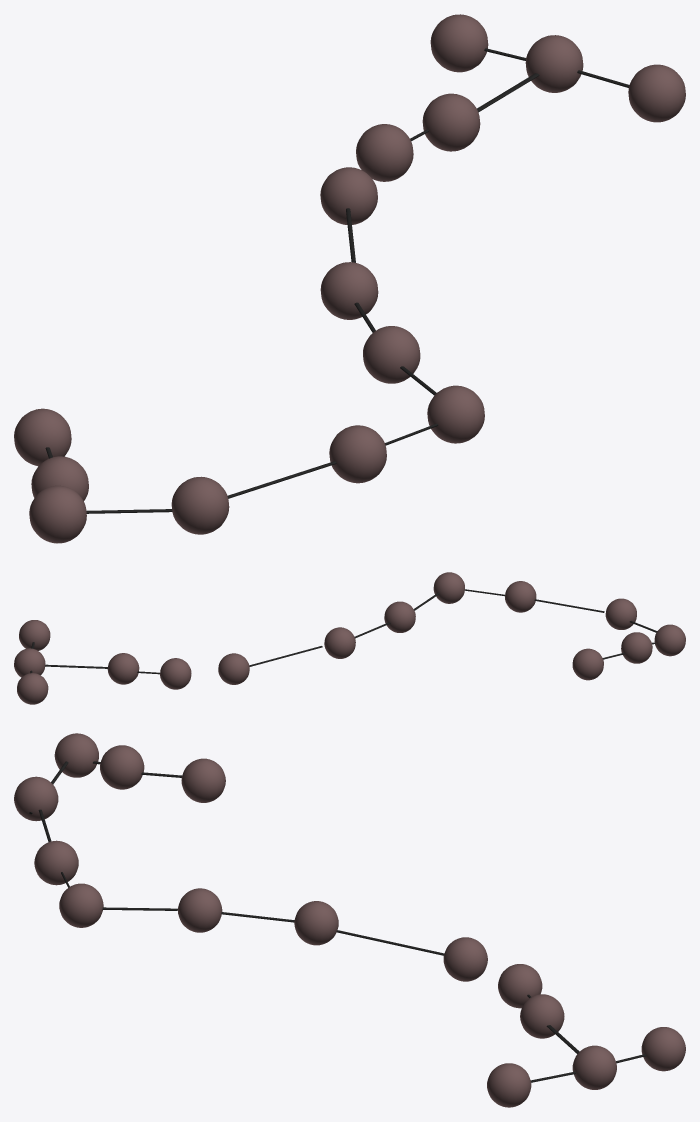
Rendered from scorpion.fbx.
The picture shows the model from 3 angles, top to bottom: view 1: azimuth 30°, elevation 25°; view 2: azimuth 150°, elevation 25°; view 3: azimuth 270°, elevation 25°; orthographic projection. The views are drawn at different scales.
Visible parts, largest first — view 1: pSphere5, pSphere13, pSphere4, pSphere14, pSphere2, pSphere11, pSphere3, pSphere10, pSphere1, pSphere12, pSphere8, pSphere9 (+2 smaller); view 2: pSphere7, pSphere9, pSphere5, pSphere10, pSphere8, pSphere6, pSphere3, pSphere14, pSphere11, pSphere1, pSphere2, pSphere4 (+2 smaller); view 3: pSphere9, pSphere7, pSphere13, pSphere8, pSphere1, pSphere6, pSphere2, pSphere12, pSphere14, pSphere3, pSphere11, pSphere4 (+2 smaller).
Boxes of the visible parts, <box> form: pSphere5: <box>29,485,86,543</box>; pSphere13: <box>628,64,685,122</box>; pSphere4: <box>171,476,229,534</box>; pSphere14: <box>430,14,488,72</box>; pSphere2: <box>427,385,484,443</box>; pSphere11: <box>422,93,480,151</box>; pSphere3: <box>329,425,386,483</box>; pSphere10: <box>356,124,413,181</box>; pSphere1: <box>363,326,420,383</box>; pSphere12: <box>525,35,583,92</box>; pSphere8: <box>320,262,378,319</box>; pSphere9: <box>320,167,377,224</box>; pSphere7: <box>572,648,603,680</box>; pSphere9: <box>218,653,249,684</box>; pSphere5: <box>654,624,685,656</box>; pSphere10: <box>160,658,191,689</box>; pSphere8: <box>324,627,355,658</box>; pSphere6: <box>621,632,652,663</box>; pSphere3: <box>505,581,536,612</box>; pSphere14: <box>17,673,48,704</box>; pSphere11: <box>107,653,139,684</box>; pSphere1: <box>384,601,415,632</box>; pSphere2: <box>433,572,464,603</box>; pSphere4: <box>605,598,636,629</box>; pSphere9: <box>443,937,487,981</box>; pSphere7: <box>181,758,225,802</box>; pSphere13: <box>487,1063,531,1107</box>; pSphere8: <box>294,901,338,945</box>; pSphere1: <box>178,888,222,932</box>; pSphere6: <box>100,745,144,789</box>; pSphere2: <box>59,883,103,927</box>; pSphere12: <box>572,1045,616,1089</box>; pSphere14: <box>641,1027,685,1071</box>; pSphere3: <box>34,840,78,885</box>; pSphere11: <box>520,994,564,1038</box>; pSphere4: <box>14,776,58,821</box>.
Bounding box in the file's own units: 37.11 × 2 × 30.23.
